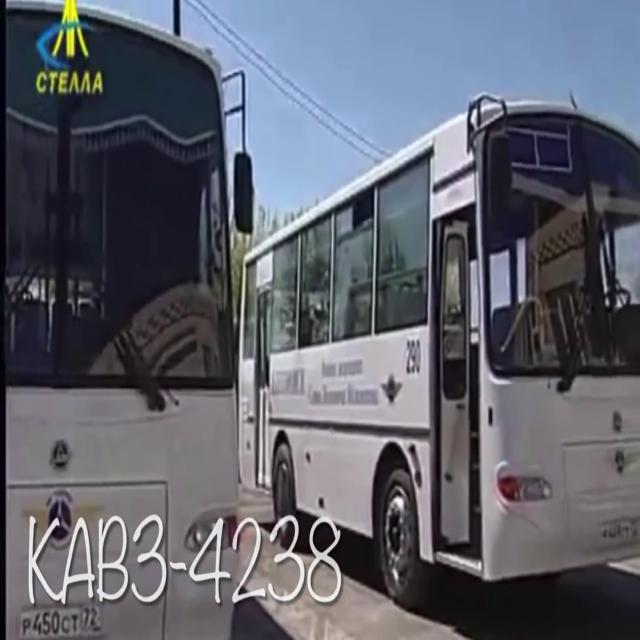bus: (242, 87, 640, 612), (0, 0, 254, 640)
